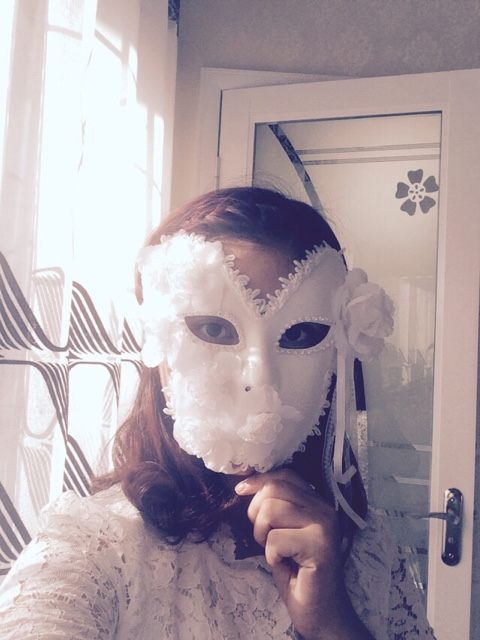face_mask: (167, 245, 336, 474)
